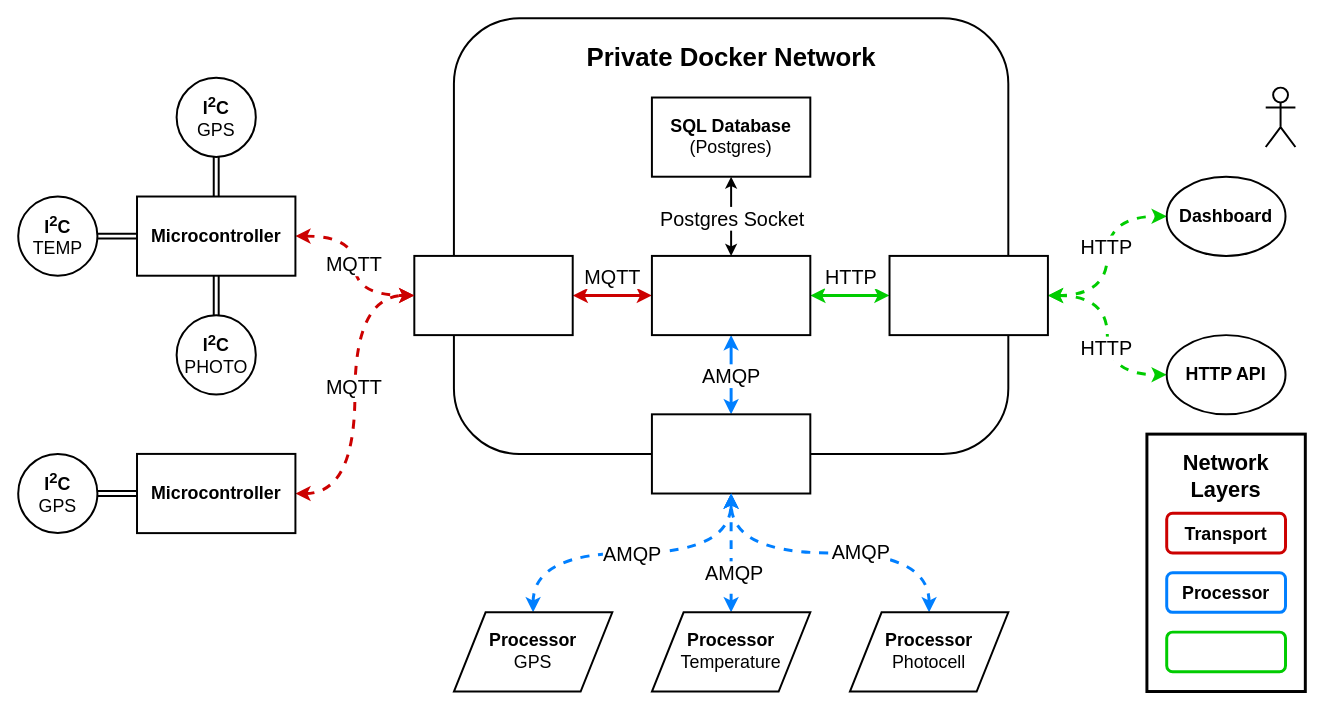
Some shapes in this 1324 by 710 pixel diagram are drawn without their labels. The shapes that lost their labels are listed below. From the top down, each one's centre as x and y in pixels, then its label:
the point at 1280,117: User
the point at 493,295: MQTT Broker (VerneMQ)
the point at 730,295: Controller (event engine, HTTP API)
the point at 968,295: Web Server (Caddy)
the point at 730,453: AMQP Broker (RabbitMQ)
the point at 1226,651: Application
